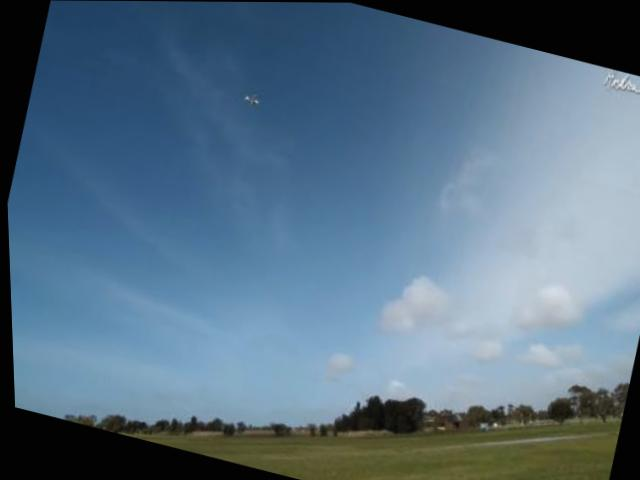uav: (237, 82, 266, 113)
